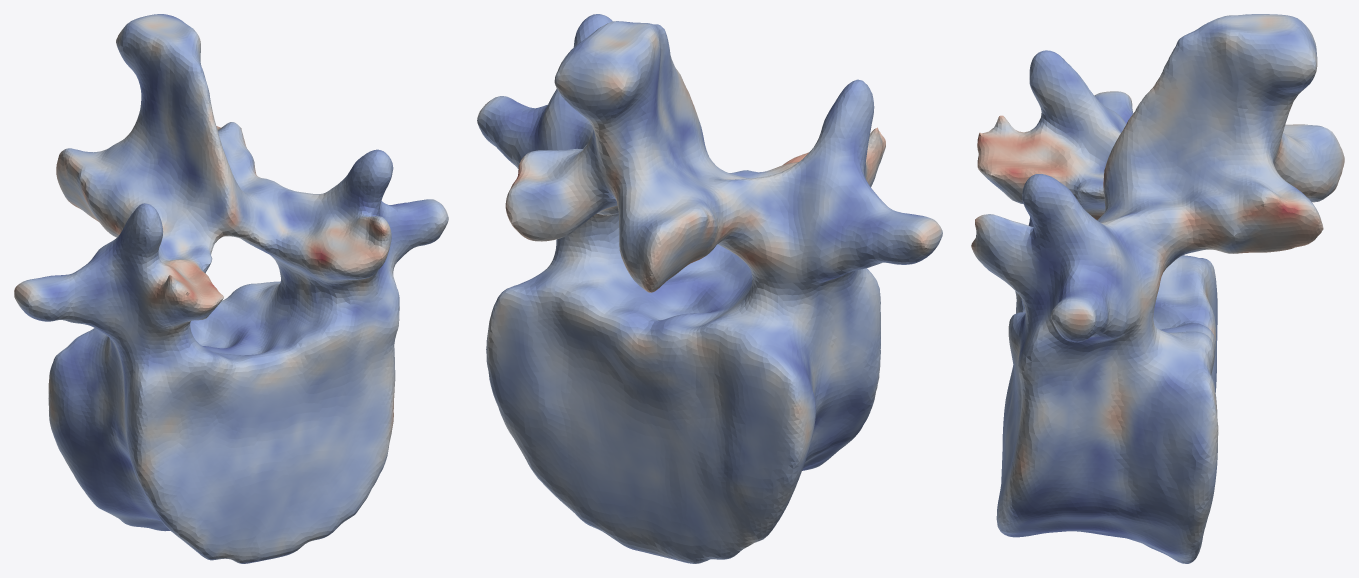
3 views of the same model, side by side, from view 1: azimuth 30°, elevation 25°; view 2: azimuth 150°, elevation 25°; view 3: azimuth 270°, elevation 25° (orthographic). The views are drawn at different scales.
Parts seen in each view (by area): view 1: Patient_001_L1+oriented.stl; view 2: Patient_001_L1+oriented.stl; view 3: Patient_001_L1+oriented.stl.
Boxes of the visible parts, x1,y1,x2,y2 form: Patient_001_L1+oriented.stl: [14, 14, 448, 563]; Patient_001_L1+oriented.stl: [477, 14, 942, 563]; Patient_001_L1+oriented.stl: [971, 14, 1344, 563].
Bounding box in the file's own units: 74.28 × 82.69 × 53.16.
